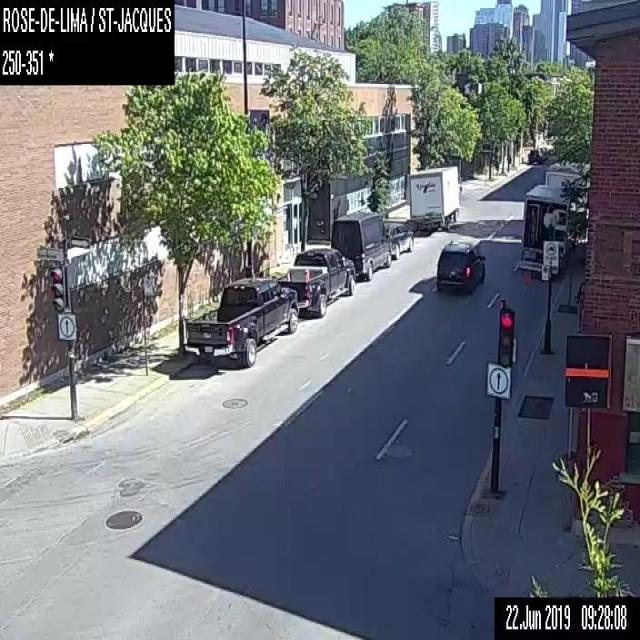vehicle: (184, 277, 298, 367), (280, 243, 358, 317), (517, 185, 574, 277), (333, 211, 390, 277), (407, 163, 460, 229), (434, 237, 486, 295), (546, 158, 587, 222), (382, 219, 413, 256), (527, 147, 543, 163)
